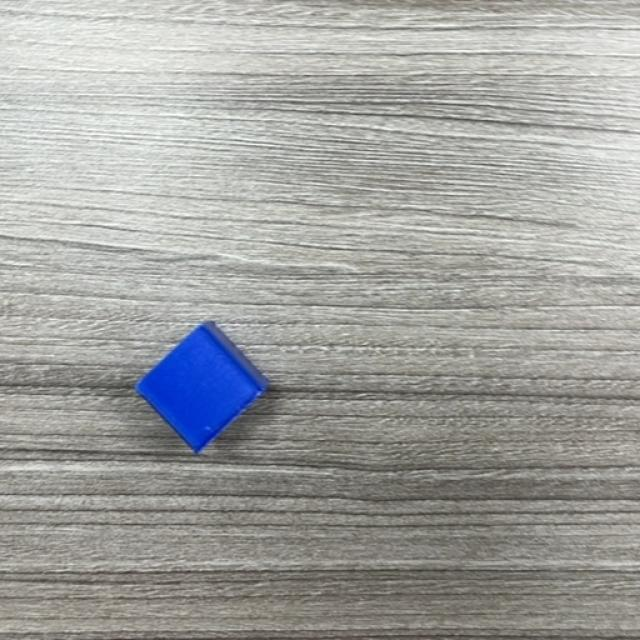Azul: (135, 321, 270, 455)
